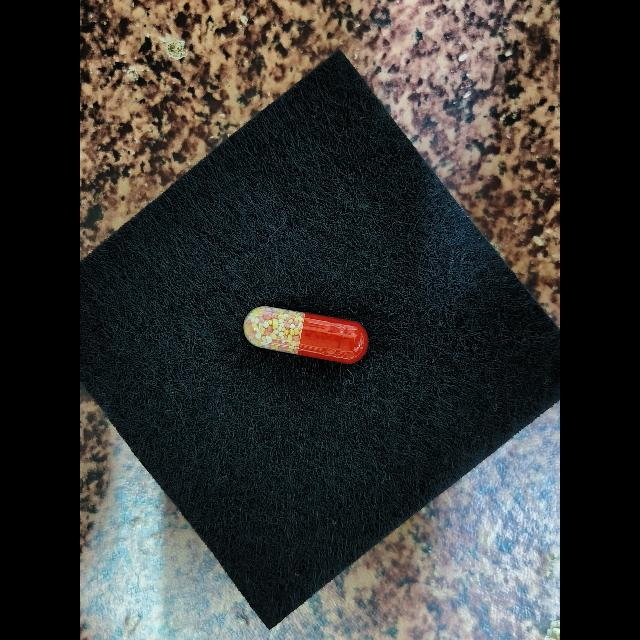Intact Capsule: (243, 306, 368, 364)
